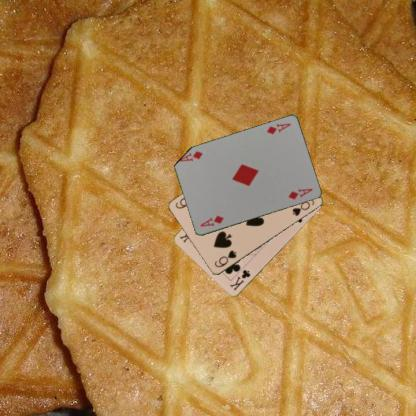6s: (212, 248, 238, 269)
Ad: (264, 121, 292, 136), (198, 213, 224, 228)
Kc: (227, 267, 252, 292)
